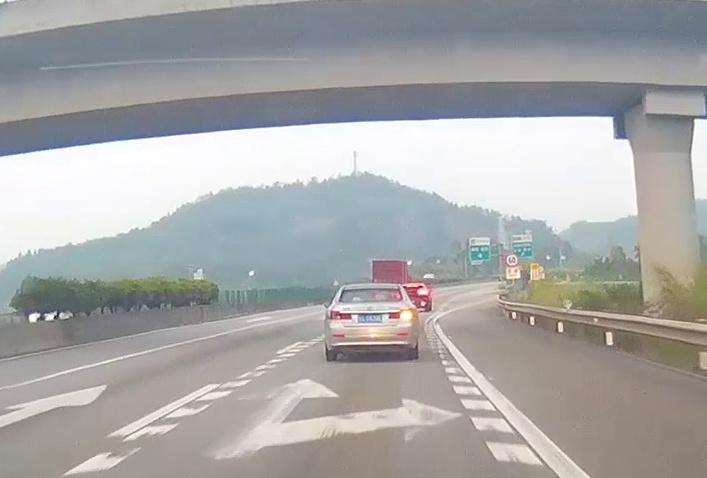L_light: (327, 310, 352, 320)
R_light: (388, 308, 416, 320)
T_light: (363, 300, 379, 302)
day-right: (324, 283, 418, 361)
